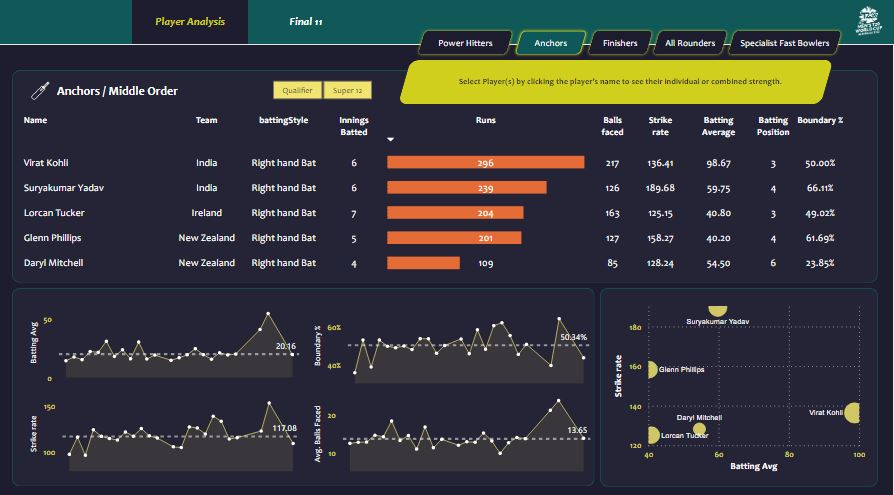

What the dashboard file says about the page in this screenshot:
{"tool":"powerbi","page":{"name":"New Anchors / Middle Order","canvas":[1280,720],"ordinal":1},"visuals":[{"type":"shape","box":[0,66,1280,654],"z":0},{"type":"card","fields":{"Values":["Key_Measures.Strike rate"]},"box":[866.4,88.6,93,60],"z":0,"group":"g2"},{"type":"group","id":"g1","title":"Group 2","box":[83.8,116.2,260,31.2],"z":0,"group":"g3"},{"type":"shape","box":[83.8,116.2,260,31.2],"z":0,"group":"g1"},{"type":"card","fields":{"Values":["Key_Measures.Bat Avg"]},"box":[767.4,88.6,92,60],"z":1000,"group":"g2"},{"type":"image","box":[38,114,44,36],"z":1000,"group":"g3"},{"type":"shape","box":[20,414.4,832.2,283.3],"z":1000},{"type":"actionButton","box":[734,42.6,111,42],"z":2000},{"type":"card","fields":{"Values":["Key_Measures.Avergate Balls Faced"]},"box":[1063,90.3,110,56.7],"z":2000,"group":"g2"},{"type":"actionButton","box":[596,42.6,144,42],"z":3000},{"type":"card","fields":{"Values":["Key_Measures.Boundary %"]},"box":[965.4,88.6,101,60],"z":3000,"group":"g2"},{"type":"actionButton","box":[838,42.6,101,42],"z":4000},{"type":"actionButton","box":[932,42.6,115,42],"z":5000},{"type":"actionButton","box":[1039,42.6,171,42],"z":6000},{"type":"image","box":[1220,3,48,59],"z":7000},{"type":"areaChart","fields":{"Category":["dim_match_summary.Match_Date.Variation.Date Hierarchy.Day"],"Y":["Key_Measures.Boundary %"]},"box":[446,430,406,126],"z":9000},{"type":"shape","box":[860,414,397,284],"z":10000},{"type":"areaChart","fields":{"Category":["dim_match_summary.Match_Date.Variation.Date Hierarchy.Day"],"Y":["Key_Measures.Avergate Balls Faced"]},"box":[446,556,406,126],"z":11000},{"type":"areaChart","fields":{"Category":["dim_match_summary.Match_Date.Variation.Date Hierarchy.Day"],"Y":["Key_Measures.Bat Avg"]},"box":[40,428.9,395.6,126.7],"z":12000},{"type":"areaChart","fields":{"Category":["dim_match_summary.Match_Date.Variation.Date Hierarchy.Day"],"Y":["Key_Measures.Strike rate"]},"box":[40,555.6,396.7,125.6],"z":13000},{"type":"shape","box":[20,102.2,1236.7,304.4],"z":14000},{"type":"slicer","fields":{"Values":["dim_match_summary.stage"]},"box":[366.7,111.1,191.1,38.9],"z":15000},{"type":"shape","box":[572,88,622,63],"z":16000},{"type":"shape","box":[590.4,101.6,173,34],"z":17000},{"type":"group","id":"g2","title":"Combined Perfoamce Metrices","box":[767.4,88.6,405.6,60],"z":18000},{"type":"group","id":"g3","title":"Group 1","box":[38,114,305.8,36],"z":19000},{"type":"tableEx","fields":{"Values":["dim_player.name","dim_player.team","dim_player.Batting Style","Key_Measures.Total Matches","Key_Measures.Total Runs","Key_Measures.total balls faced","Key_Measures.Strike rate","Key_Measures.Bat Avg","Key_Measures.Batting Position","Key_Measures.Boundary %"]},"box":[26,151,1231,255],"z":20000},{"type":"scatterChart","fields":{"Y":["Key_Measures.Strike rate"],"Category":["dim_player.name"],"X":["Key_Measures.Bat Avg"],"Size":["Key_Measures.Total Runs"]},"box":[874,427,370,254],"z":21000},{"type":"actionButton","title":"Button Player Ana selected","box":[357,0,166,66],"z":22000},{"type":"actionButton","title":"Button Player Ana selected","box":[191,0,166,66],"z":23000},{"type":"shape","box":[608.6,100.9,560.6,36.3],"z":23501}]}

Visuals, with their boxes in screenshot pixels (x1, y1, x2, y2), scaled from the page's 1280x720 canvas onto the 894x495 screenshot:
shape: [left=0, top=45, right=893, bottom=494]
card - Key_Measures.Strike rate: [left=605, top=61, right=670, bottom=102]
"Group 2" group: [left=59, top=80, right=240, bottom=101]
shape: [left=59, top=80, right=240, bottom=101]
card - Key_Measures.Bat Avg: [left=536, top=61, right=600, bottom=102]
image: [left=27, top=78, right=57, bottom=103]
shape: [left=14, top=285, right=595, bottom=480]
actionButton: [left=513, top=29, right=590, bottom=58]
card - Key_Measures.Avergate Balls Faced: [left=742, top=62, right=819, bottom=101]
actionButton: [left=416, top=29, right=517, bottom=58]
card - Key_Measures.Boundary %: [left=674, top=61, right=745, bottom=102]
actionButton: [left=585, top=29, right=656, bottom=58]
actionButton: [left=651, top=29, right=731, bottom=58]
actionButton: [left=726, top=29, right=845, bottom=58]
image: [left=852, top=2, right=886, bottom=43]
areaChart - dim_match_summary.Match_Date.Variation.Date Hierarchy.Day x Key_Measures.Boundary %: [left=312, top=296, right=595, bottom=382]
shape: [left=601, top=285, right=878, bottom=480]
areaChart - dim_match_summary.Match_Date.Variation.Date Hierarchy.Day x Key_Measures.Avergate Balls Faced: [left=312, top=382, right=595, bottom=469]
areaChart - dim_match_summary.Match_Date.Variation.Date Hierarchy.Day x Key_Measures.Bat Avg: [left=28, top=295, right=304, bottom=382]
areaChart - dim_match_summary.Match_Date.Variation.Date Hierarchy.Day x Key_Measures.Strike rate: [left=28, top=382, right=305, bottom=468]
shape: [left=14, top=70, right=878, bottom=280]
slicer - dim_match_summary.stage: [left=256, top=76, right=390, bottom=103]
shape: [left=400, top=60, right=834, bottom=104]
shape: [left=412, top=70, right=533, bottom=93]
"Combined Perfoamce Metrices" group: [left=536, top=61, right=819, bottom=102]
"Group 1" group: [left=27, top=78, right=240, bottom=103]
tableEx - dim_player.name x dim_player.team: [left=18, top=104, right=878, bottom=279]
scatterChart - Key_Measures.Strike rate x dim_player.name: [left=610, top=294, right=869, bottom=468]
"Button Player Ana selected" actionButton: [left=249, top=0, right=365, bottom=45]
"Button Player Ana selected" actionButton: [left=133, top=0, right=249, bottom=45]
shape: [left=425, top=69, right=817, bottom=94]
